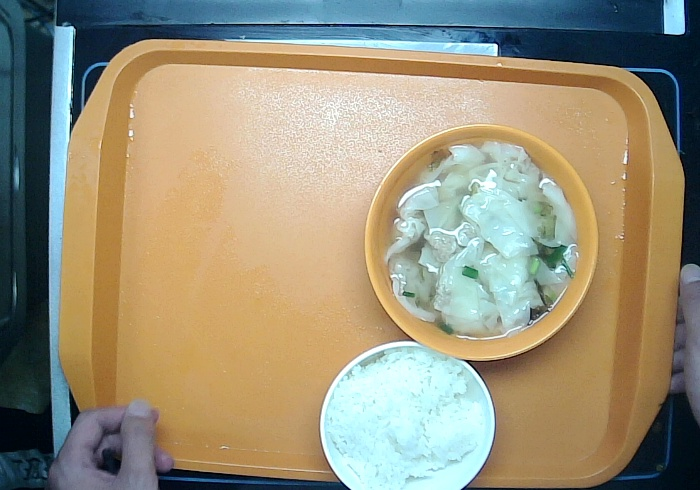NLDX-Fan_Wan: (316, 336, 496, 487)
NLDX-Hun_Tun_Wan: (360, 119, 604, 365)
